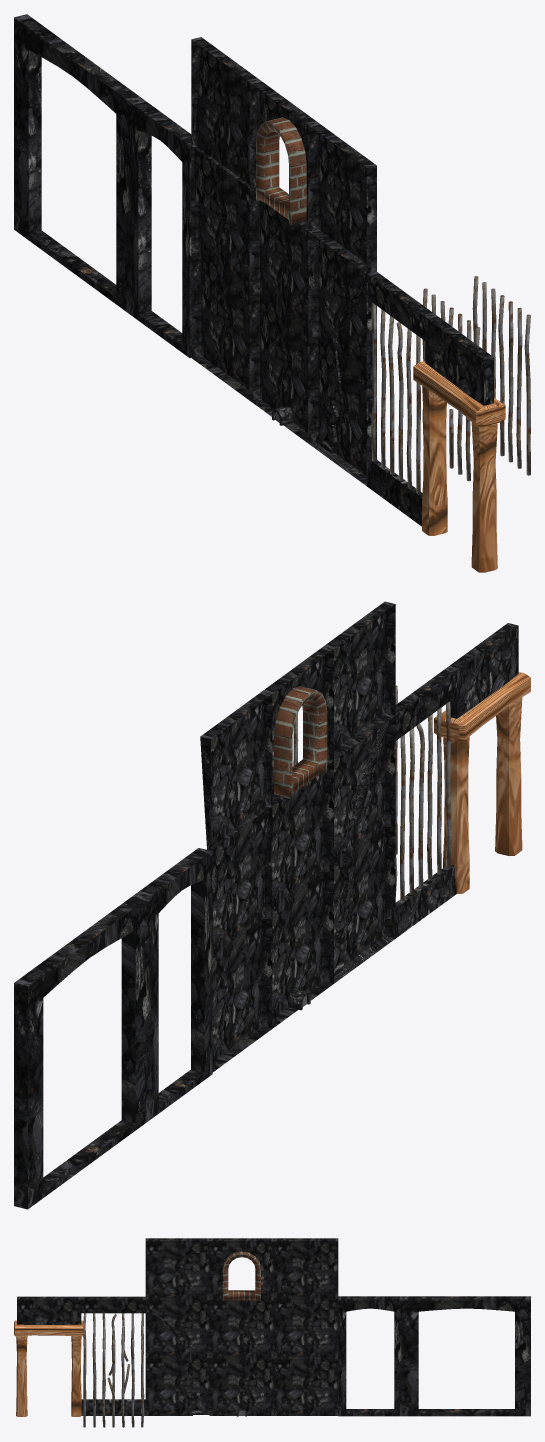
Rendered from Dn_Walls.dae.
3 views of the same model, one above another, from view 1: azimuth 30°, elevation 25°; view 2: azimuth 150°, elevation 25°; view 3: azimuth 270°, elevation 25° (orthographic). The views are drawn at different scales.
Parts seen in each view (by area): view 1: Dn_Wall_3, Dn_Door_3, Dn_Wall_1, Dn_Wall_2, Dn_Door_1_Frame, Dn_Door_2, Dn_Upper_Wall_1, Dn_Upper_Wall_2, Dn_Jail_Wall_1, Dn_Jail_Wall_2, Dn_Arc, Dn_Jail_Wall_Base_1 (+3 smaller); view 2: Dn_Door_3, Dn_Wall_3, Dn_Wall_1, Dn_Wall_2, Dn_Door_1_Frame, Dn_Door_2, Dn_Upper_Wall_2, Dn_Upper_Wall_1, Dn_Jail_Wall_1, Dn_Jail_Wall_Base_1, Dn_Arc, Dn_Door_1_Wall (+1 smaller); view 3: Dn_Wall_2, Dn_Wall_3, Dn_Wall_1, Dn_Door_3, Dn_Upper_Wall_1, Dn_Upper_Wall_2, Dn_Door_2, Dn_Door_1_Frame, Dn_Upper_Wall_3, Dn_Jail_Wall_Base_1, Dn_Jail_Wall_2, Dn_Door_1_Wall (+3 smaller).
Part boxes in pixels (x1,y1,x2,y2): Dn_Wall_3: (308, 229, 376, 486); Dn_Door_3: (14, 14, 143, 314); Dn_Wall_1: (249, 188, 318, 442); Dn_Wall_2: (191, 144, 253, 400); Dn_Door_1_Frame: (413, 361, 505, 572); Dn_Door_2: (131, 100, 196, 357); Dn_Upper_Wall_1: (308, 122, 376, 273); Dn_Upper_Wall_2: (191, 37, 259, 188); Dn_Jail_Wall_1: (371, 303, 425, 493); Dn_Jail_Wall_2: (472, 276, 530, 475); Dn_Arc: (256, 117, 306, 224); Dn_Jail_Wall_Base_1: (367, 271, 434, 526); Dn_Door_3: (14, 893, 150, 1209); Dn_Wall_3: (323, 713, 395, 983); Dn_Wall_1: (265, 759, 333, 1028); Dn_Wall_2: (211, 805, 272, 1072); Dn_Door_1_Frame: (434, 672, 530, 893); Dn_Door_2: (137, 848, 212, 1118); Dn_Upper_Wall_2: (200, 691, 272, 850); Dn_Upper_Wall_1: (323, 601, 395, 749); Dn_Jail_Wall_1: (395, 701, 451, 901); Dn_Jail_Wall_Base_1: (385, 668, 456, 938); Dn_Arc: (274, 686, 327, 798); Dn_Door_1_Wall: (447, 623, 518, 718); Dn_Wall_2: (274, 1297, 338, 1415); Dn_Wall_3: (145, 1299, 209, 1415); Dn_Wall_1: (209, 1299, 273, 1415); Dn_Door_3: (402, 1296, 530, 1416); Dn_Upper_Wall_1: (145, 1238, 209, 1299); Dn_Upper_Wall_2: (274, 1238, 338, 1297); Dn_Door_2: (338, 1296, 402, 1416); Dn_Door_1_Frame: (14, 1320, 84, 1416); Dn_Upper_Wall_3: (209, 1238, 273, 1299); Dn_Jail_Wall_Base_1: (81, 1296, 145, 1415); Dn_Jail_Wall_2: (83, 1339, 144, 1427); Dn_Door_1_Wall: (17, 1296, 81, 1324).
Size of the model in its own units: 2.33 by 16.09 by 6.
4 materials, 4 textured.
